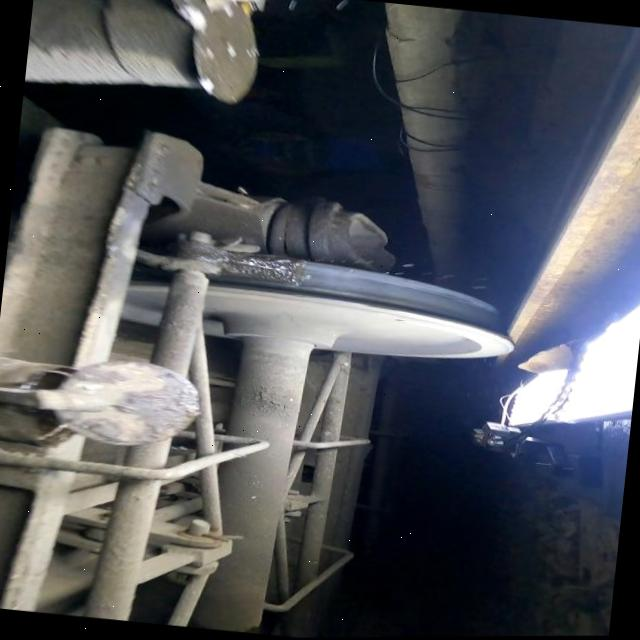Cracks-Scratches: (291, 294, 370, 307)
Wheel: (202, 262, 512, 359)
